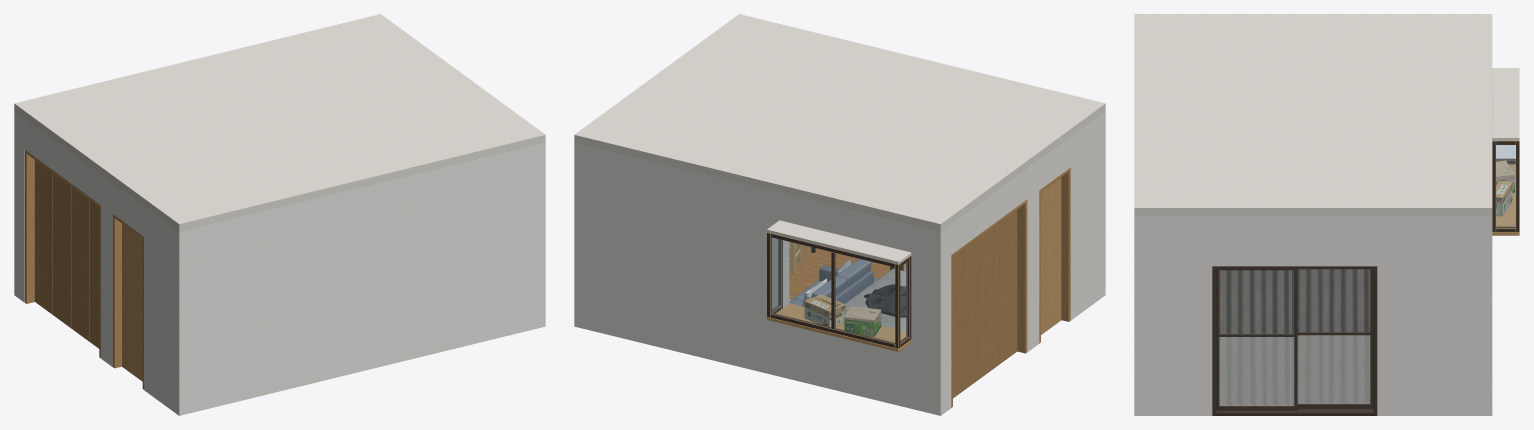
Rendered from room.glb.
The picture shows the model from 3 angles, left to right: view 1: azimuth 30°, elevation 25°; view 2: azimuth 150°, elevation 25°; view 3: azimuth 270°, elevation 25°; orthographic projection. The views are drawn at different scales.
Visible parts, largest first — view 1: room_wall_south, room_ceiling, room_wall_west, room_closet_door, room_door_west, room_wall_north; view 2: room_ceiling, room_wall_north, room_bay_window, room_wall_west, room_closet_door, room_door_west, room_bay_roof, room_floor, room_wall_south, sofa_cushions, bed_cover, box_water_body (+3 smaller); view 3: room_ceiling, room_wall_east, room_window_east, curtain_cloth, room_wall_north, room_wall_south, room_bay_window, room_bay_roof, box_water_body, box_tea_body.
Part boxes in pixels (x1,y1,x2,y2): room_wall_south: [173, 142, 545, 415]; room_ceiling: [14, 14, 545, 231]; room_wall_west: [20, 116, 172, 410]; room_closet_door: [25, 150, 100, 357]; room_door_west: [113, 214, 143, 389]; room_wall_north: [14, 111, 20, 299]; room_ceiling: [574, 14, 1105, 231]; room_wall_north: [574, 142, 946, 415]; room_bay_window: [767, 232, 911, 351]; room_wall_west: [947, 116, 1099, 410]; room_closet_door: [951, 199, 1027, 407]; room_door_west: [1039, 168, 1070, 343]; room_bay_roof: [767, 220, 911, 264]; room_floor: [789, 242, 1016, 398]; room_wall_south: [1099, 111, 1105, 299]; sofa_cushions: [789, 259, 871, 305]; bed_cover: [845, 268, 906, 331]; box_water_body: [804, 294, 845, 326]; room_ceiling: [1134, 14, 1492, 216]; room_wall_east: [1148, 216, 1478, 415]; room_window_east: [1212, 266, 1377, 415]; curtain_cloth: [1219, 269, 1370, 405]; room_wall_north: [1478, 216, 1492, 415]; room_wall_south: [1134, 216, 1147, 415]; room_bay_window: [1492, 140, 1519, 235]; room_bay_roof: [1492, 68, 1519, 140]; box_water_body: [1496, 180, 1512, 216]; box_tea_body: [1496, 160, 1514, 192].
Bounding box in the file's own units: 5 × 2.53 × 4.2.
Materials: 214 (73 with a texture image).
